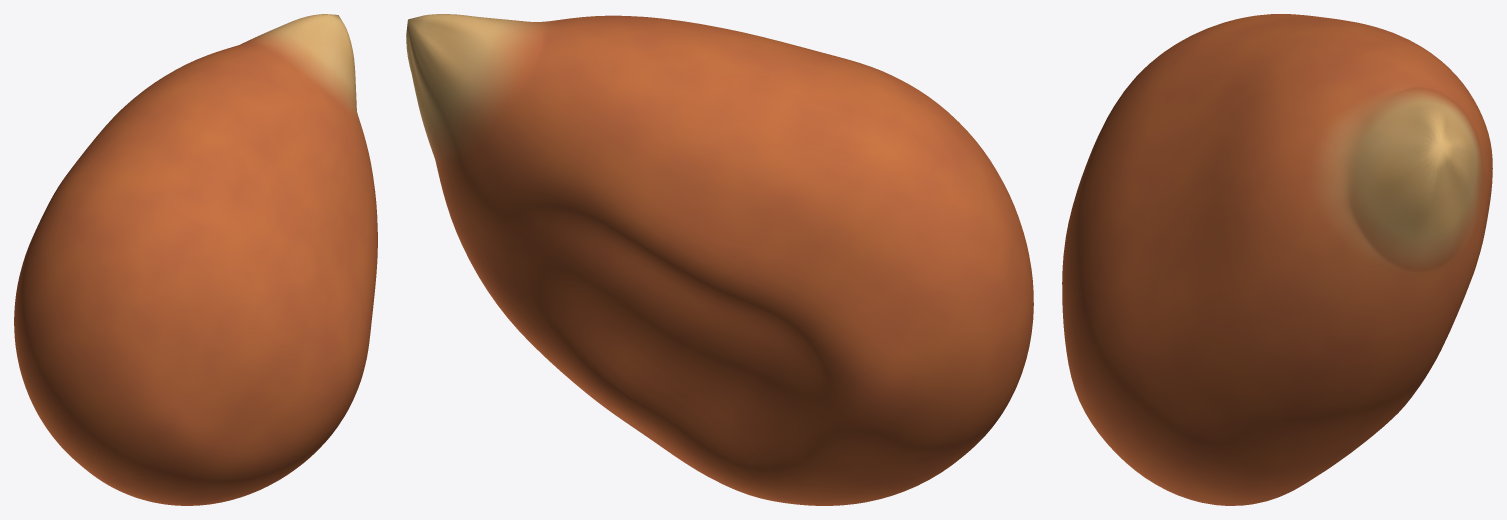
The model's file is corn.fbx.
3 renders of one model, left to right at view 1: azimuth 30°, elevation 25°; view 2: azimuth 150°, elevation 25°; view 3: azimuth 270°, elevation 25°, orthographic. The views are drawn at different scales.
Parts seen in each view (by area): view 1: corn.001_Sphere.001; view 2: corn.001_Sphere.001; view 3: corn.001_Sphere.001.
Part boxes in pixels (x1,y1,x2,y2): corn.001_Sphere.001: (14,14,377,505); corn.001_Sphere.001: (406,14,1033,505); corn.001_Sphere.001: (1062,14,1492,505).
Size of the model in its own units: 472 by 433 by 350.
Materials: 1 (1 with a texture image).
